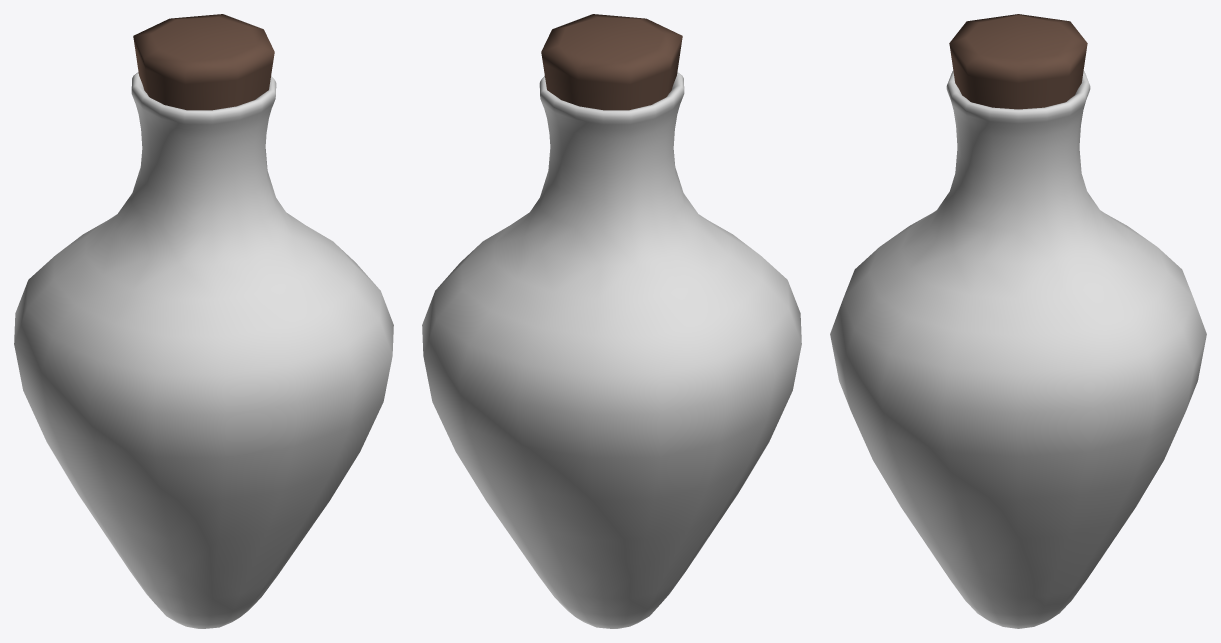
The model's file is Potion4_Filled.glb.
3 views of the same model, side by side, from view 1: azimuth 30°, elevation 25°; view 2: azimuth 150°, elevation 25°; view 3: azimuth 270°, elevation 25° (orthographic).
Parts seen in each view (by area): view 1: Potion4_Filled; view 2: Potion4_Filled; view 3: Potion4_Filled.
Boxes of the visible parts, x1,y1,x2,y2 form: Potion4_Filled: (14, 14, 393, 628); Potion4_Filled: (422, 14, 801, 628); Potion4_Filled: (830, 14, 1206, 628).
Bounding box in the file's own units: 0.7186 × 1.24 × 0.7186.
